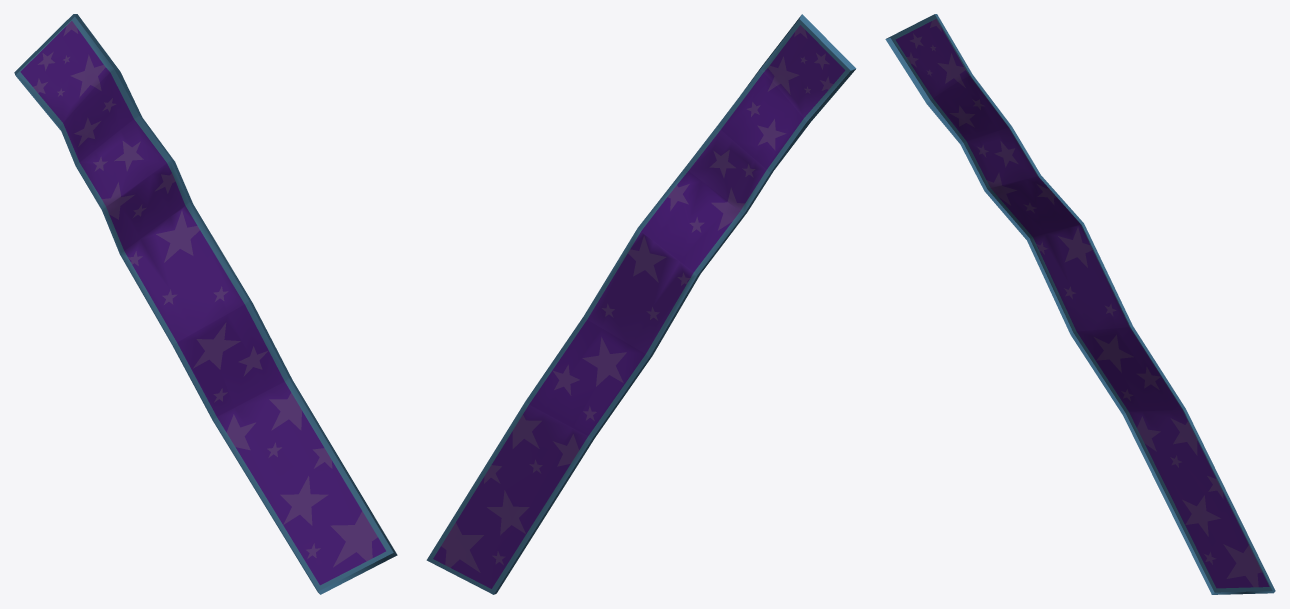
Rendered from BoardwalkCarpet.fbx.
3 renders of one model, left to right at view 1: azimuth 30°, elevation 25°; view 2: azimuth 150°, elevation 25°; view 3: azimuth 330°, elevation 25°, orthographic. The views are drawn at different scales.
Parts seen in each view (by area): view 1: BoardwalkCarpet; view 2: BoardwalkCarpet; view 3: BoardwalkCarpet.
Boxes of the visible parts, x1,y1,x2,y2 form: BoardwalkCarpet: (14,14,397,594); BoardwalkCarpet: (426,14,856,594); BoardwalkCarpet: (885,14,1275,594).
Bounding box in the file's own units: 1770 × 2694 × 386.
